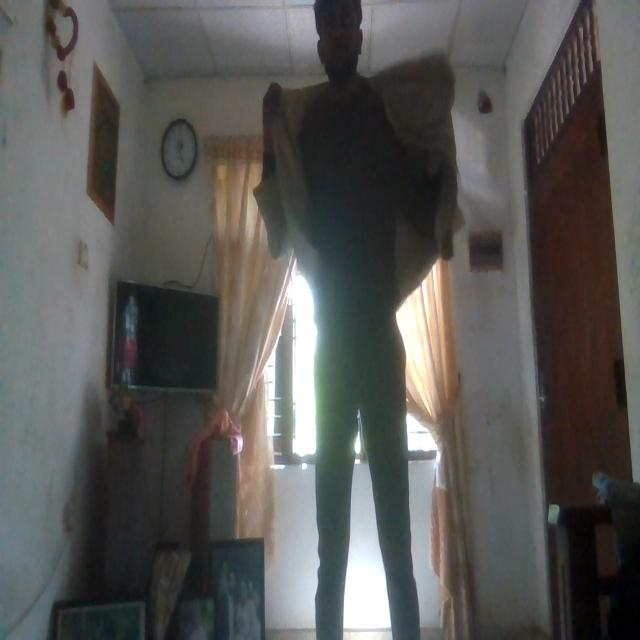Jacket_Wearer: (253, 78, 458, 318)
Person: (277, 0, 428, 640)
